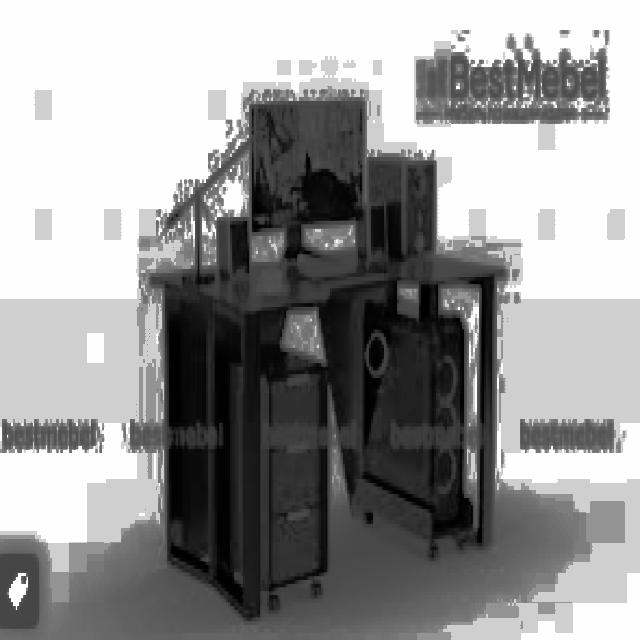table: (150, 247, 503, 618)
